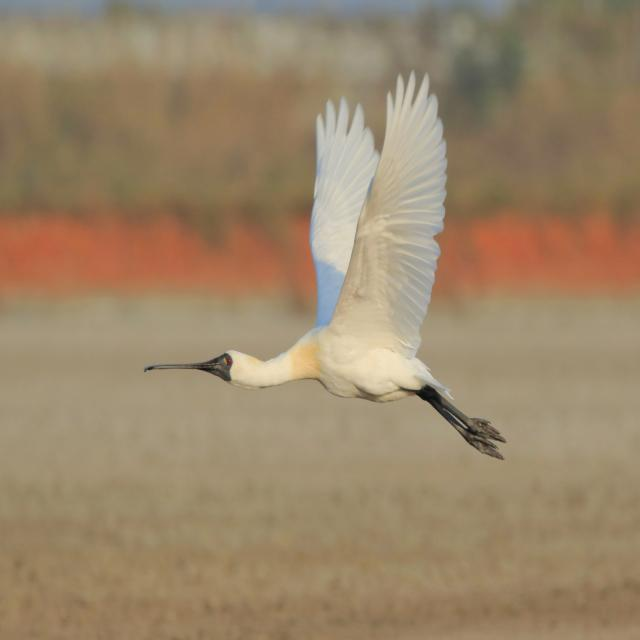Black-faced spoonbill: (146, 73, 505, 458)
